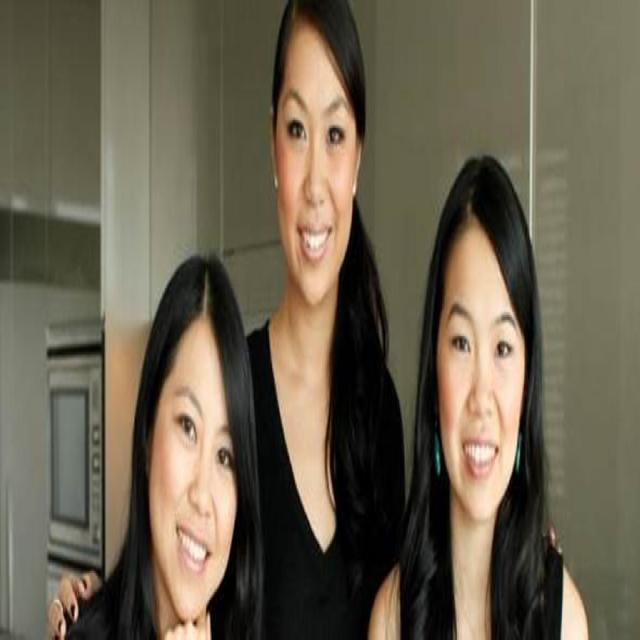Face: (437, 233, 521, 512), (155, 327, 240, 599), (277, 19, 351, 292)
